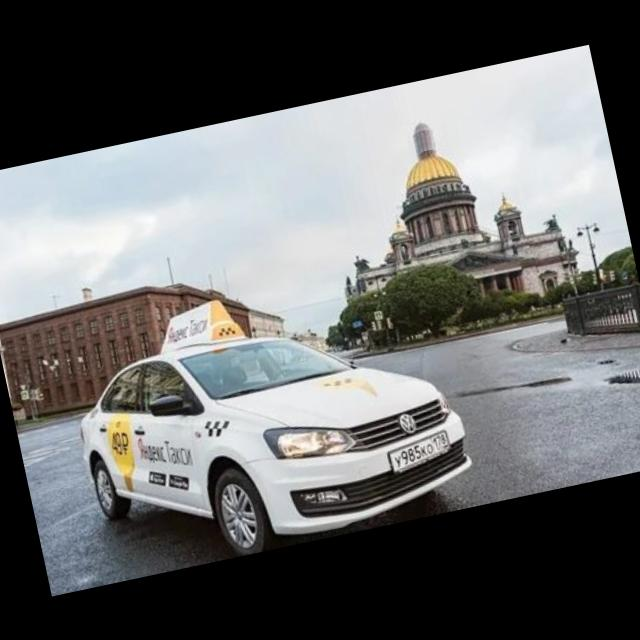taxi: (57, 254, 482, 585)
